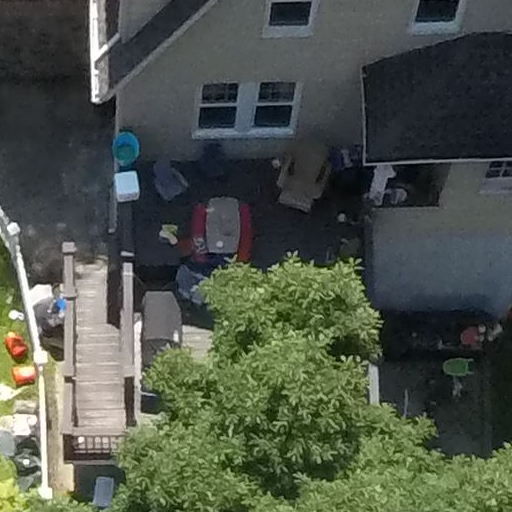bucket: (6, 361, 40, 389), (1, 331, 29, 357)
container: (109, 130, 143, 166)
